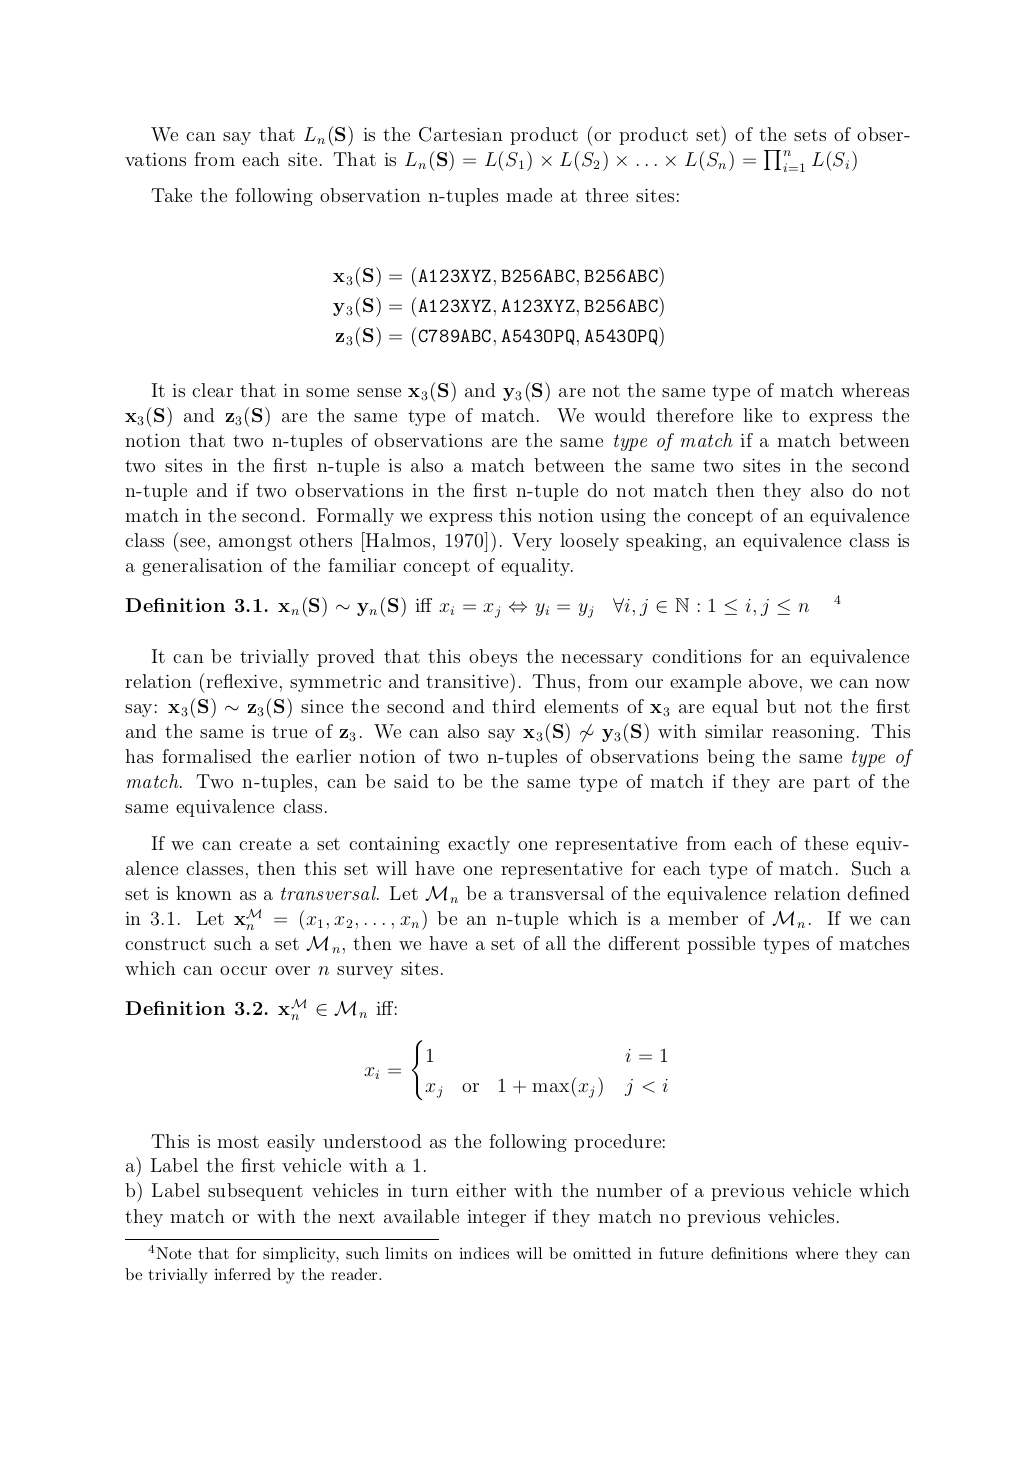formula: (364, 1038, 667, 1101), (333, 265, 663, 287), (333, 296, 663, 317), (335, 326, 663, 347)
